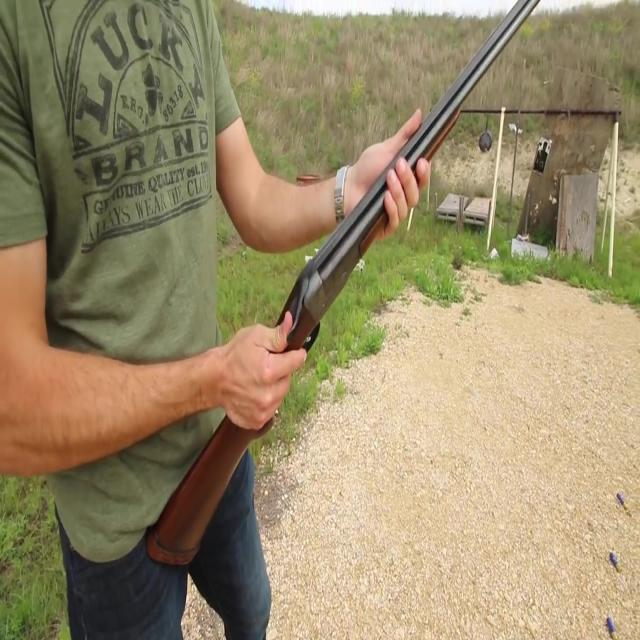Weapon: (104, 0, 609, 568)
